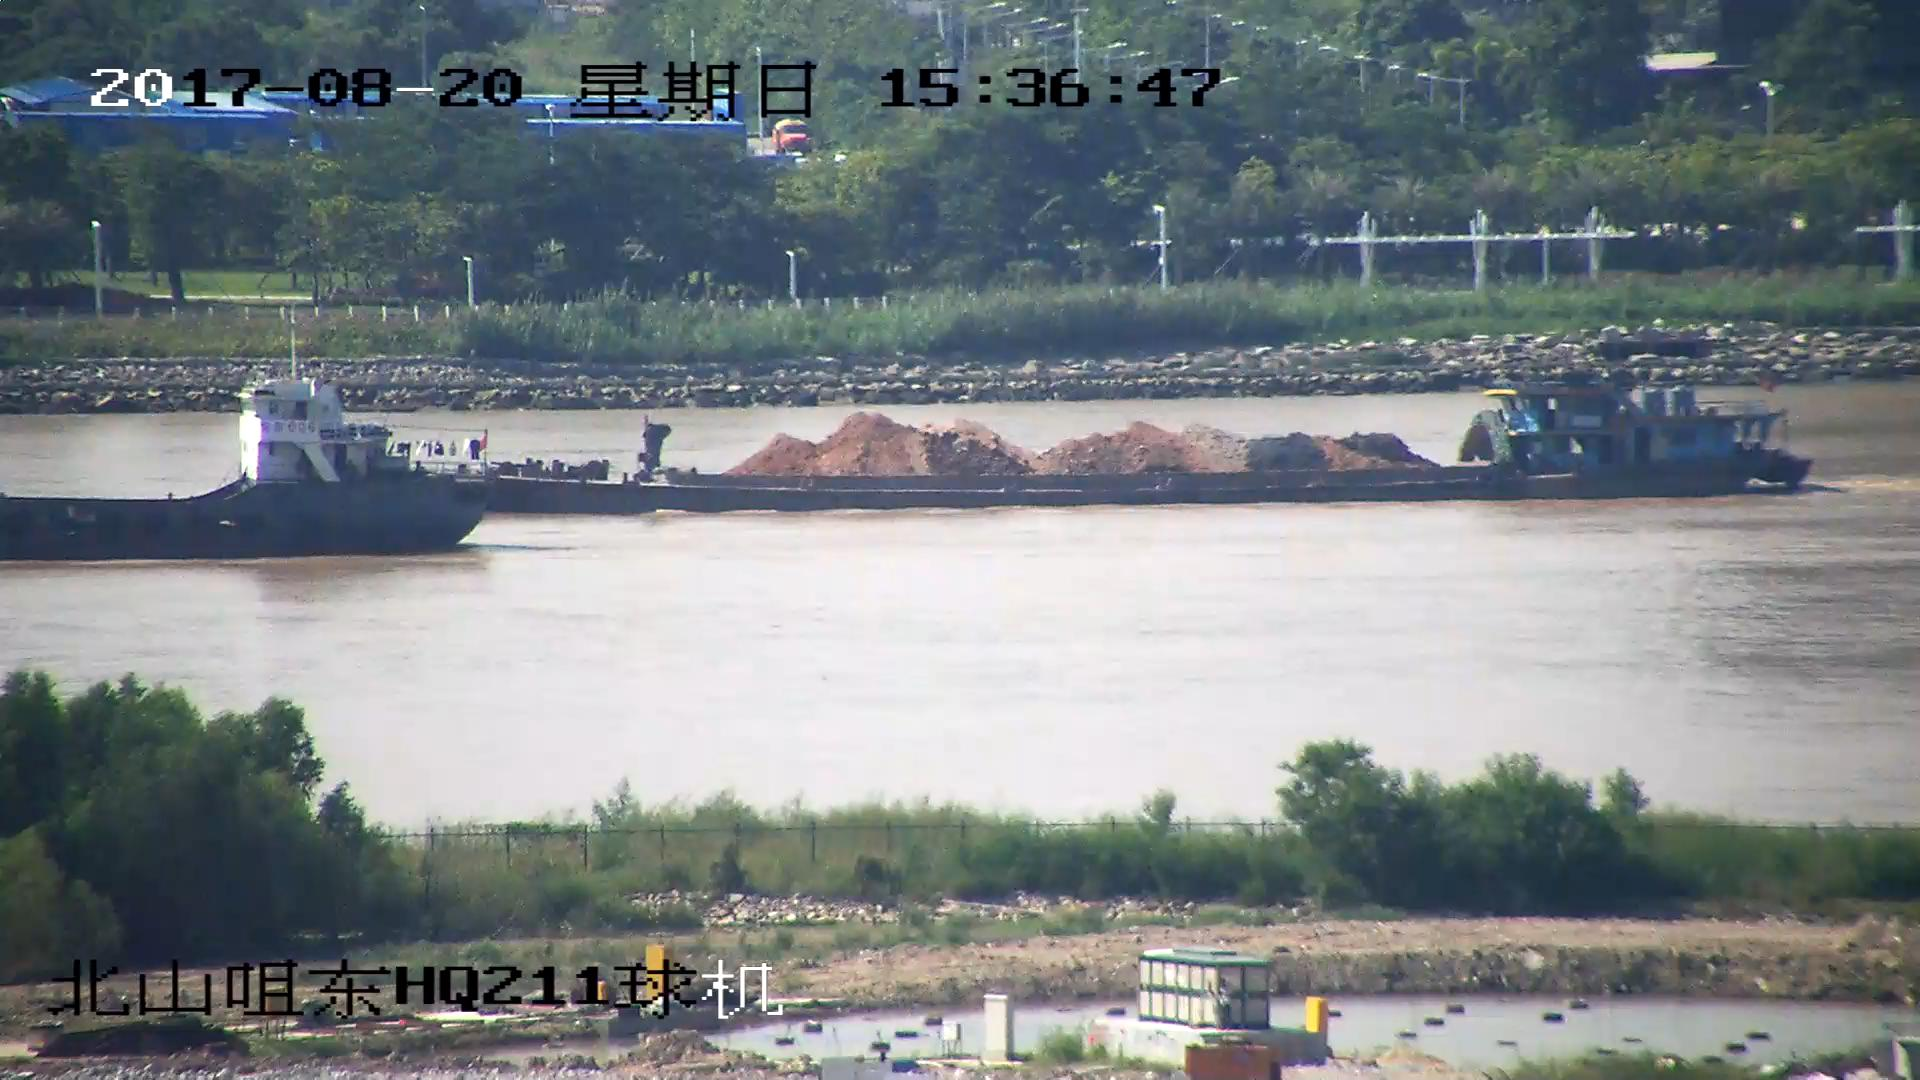general cargo ship: (1, 308, 502, 561)
ore carrier: (435, 346, 1823, 514)
